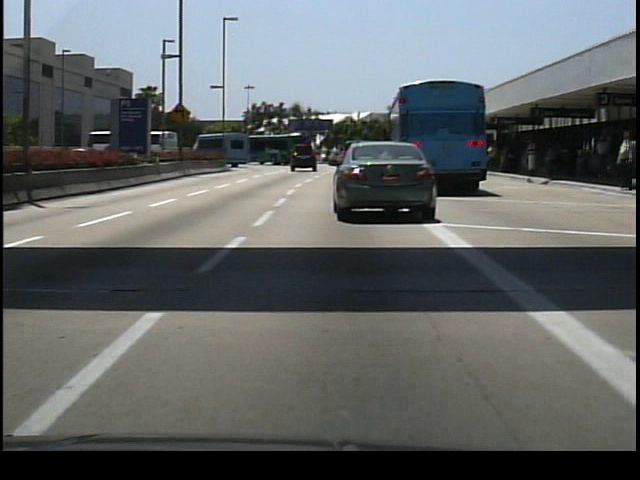person: (612, 128, 636, 195)
